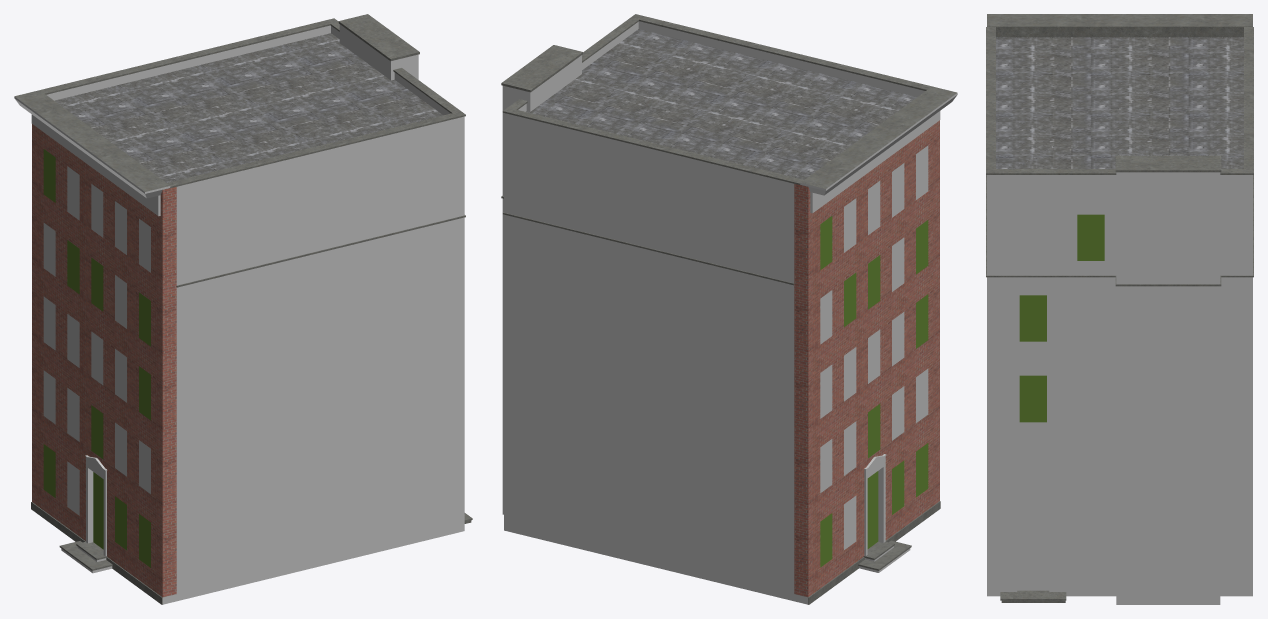
The model's file is mcp_building_11_LOD_1.FBX.
3 renders of one model, left to right at view 1: azimuth 30°, elevation 25°; view 2: azimuth 150°, elevation 25°; view 3: azimuth 270°, elevation 25°, orthographic.
Visible parts, largest first — view 1: mcp_building_11_walls, mcp_building_11_roof, mcp_building_11, mcp_building_11_concrete; view 2: mcp_building_11_walls, mcp_building_11_roof, mcp_building_11, mcp_building_11_concrete; view 3: mcp_building_11_walls, mcp_building_11_roof, mcp_building_11, mcp_building_11_concrete, mcp_building_11_door.
Boxes of the visible parts, bbox=[...] form: mcp_building_11_walls: bbox=[32, 24, 464, 604]; mcp_building_11_roof: bbox=[54, 33, 442, 182]; mcp_building_11: bbox=[14, 90, 170, 567]; mcp_building_11_concrete: bbox=[31, 14, 472, 604]; mcp_building_11_walls: bbox=[502, 21, 939, 604]; mcp_building_11_roof: bbox=[526, 29, 916, 179]; mcp_building_11: bbox=[800, 86, 957, 567]; mcp_building_11_concrete: bbox=[501, 14, 940, 604]; mcp_building_11_walls: bbox=[987, 172, 1252, 604]; mcp_building_11_roof: bbox=[996, 37, 1243, 168]; mcp_building_11: bbox=[987, 14, 1252, 502]; mcp_building_11_concrete: bbox=[986, 27, 1253, 602]; mcp_building_11_door: bbox=[1017, 535, 1049, 590].
Size of the model in its own units: 1840 by 2205 by 1230.
